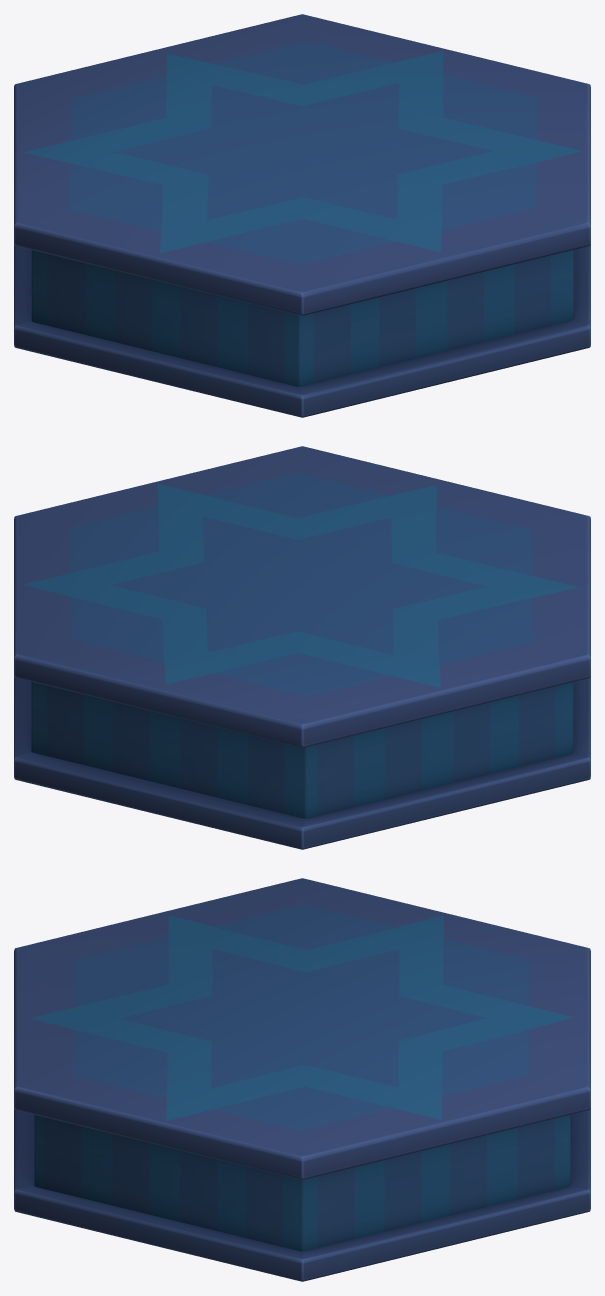
File: SM_UpDownFoothold01.fbx
The picture shows the model from 3 angles, top to bottom: view 1: azimuth 30°, elevation 25°; view 2: azimuth 150°, elevation 25°; view 3: azimuth 270°, elevation 25°; orthographic projection.
Visible parts, largest first — view 1: SM_UpDownFoothold01; view 2: SM_UpDownFoothold01; view 3: SM_UpDownFoothold01.
Boxes of the visible parts, box(x1,y1,x2,y2) form: SM_UpDownFoothold01: box(14, 14, 590, 417); SM_UpDownFoothold01: box(14, 446, 590, 849); SM_UpDownFoothold01: box(14, 878, 590, 1281).
Size of the model in its own units: 481 by 100 by 417.
